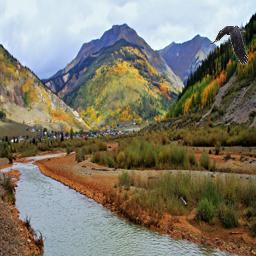Crow: (210, 25, 248, 65)
